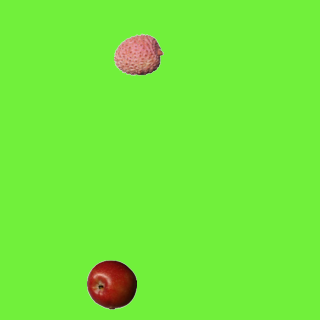Apple Braeburn: (86, 259, 136, 309)
Lychee: (113, 29, 163, 79)
